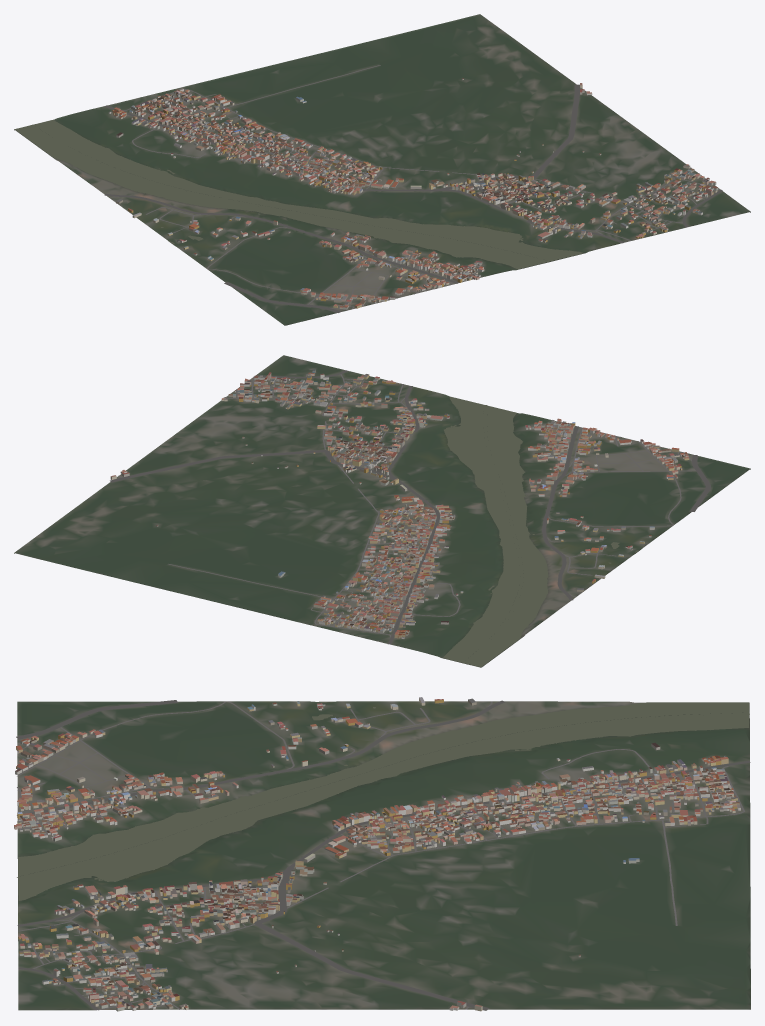
The picture shows the model from 3 angles, top to bottom: view 1: azimuth 30°, elevation 25°; view 2: azimuth 150°, elevation 25°; view 3: azimuth 270°, elevation 25°; orthographic projection. The views are drawn at different scales.
Parts seen in each view (by area): view 1: ground, buildings, water, roads; view 2: ground, buildings, water, roads; view 3: ground, buildings, water, roads.
Boxes of the visible parts, <box> form: ground: <box>14,14,750,325</box>; buildings: <box>108,78,718,309</box>; water: <box>15,120,583,269</box>; roads: <box>104,65,722,312</box>; ground: <box>14,355,750,667</box>; buildings: <box>110,369,689,638</box>; water: <box>443,396,638,666</box>; roads: <box>110,370,710,644</box>; ground: <box>17,701,750,1010</box>; buildings: <box>14,697,740,1011</box>; water: <box>17,701,749,900</box>; roads: <box>16,700,750,1010</box>.
Size of the model in its own units: 1413 by 22.01 by 1410.
